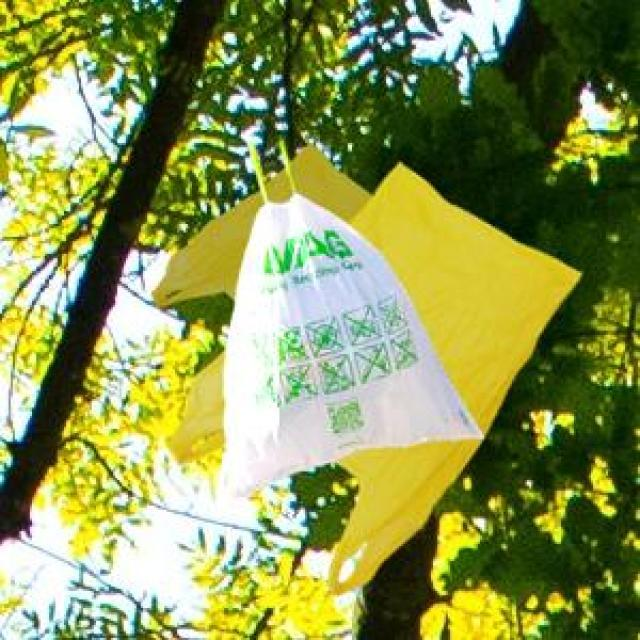Plastic_Bag: (165, 159, 577, 592), (214, 138, 481, 504), (148, 140, 370, 302)
